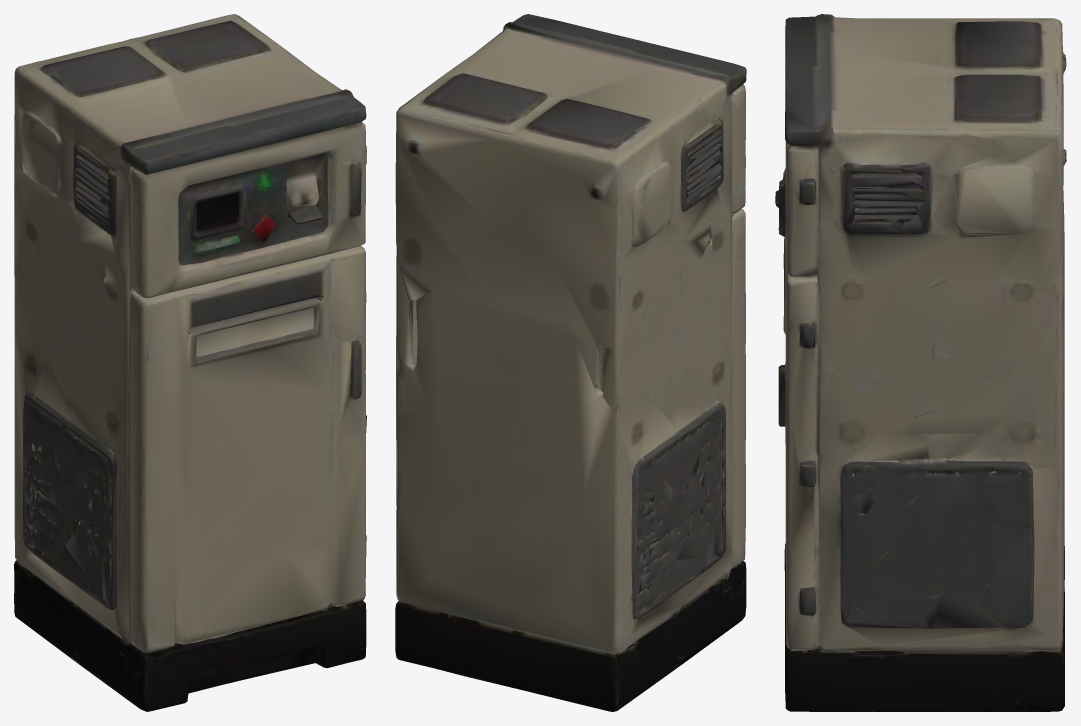
The model's file is ups_unit.glb.
The picture shows the model from 3 angles, left to right: view 1: azimuth 30°, elevation 25°; view 2: azimuth 150°, elevation 25°; view 3: azimuth 270°, elevation 25°; orthographic projection. The views are drawn at different scales.
Visible parts, largest first — view 1: geometry_0; view 2: geometry_0; view 3: geometry_0.
Part boxes in pixels (x1=…): geometry_0: x1=14, y1=14, x2=366, y2=711; geometry_0: x1=395, y1=14, x2=746, y2=711; geometry_0: x1=775, y1=14, x2=1066, y2=711.
Bounding box in the file's own units: 0.4458 × 1 × 0.4515.
Materials: 1 (1 with a texture image).
